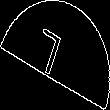L_SW: (37, 26, 73, 84)
